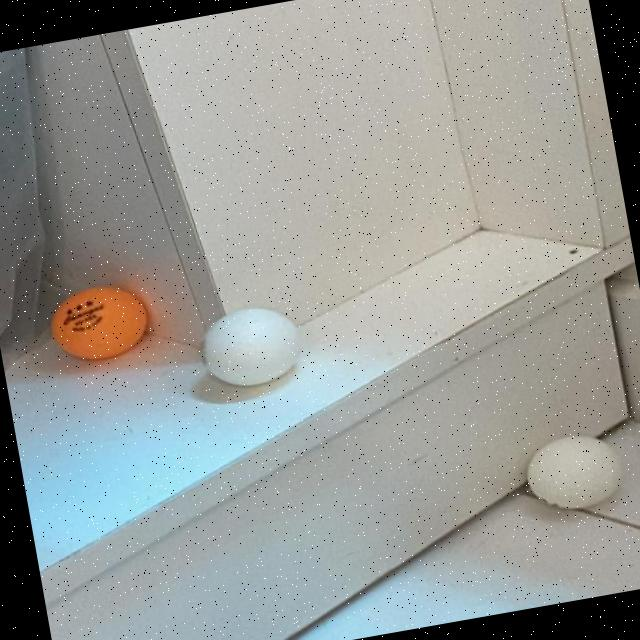ping-pong-ball: (195, 300, 307, 394), (524, 428, 629, 518), (46, 280, 152, 365)
